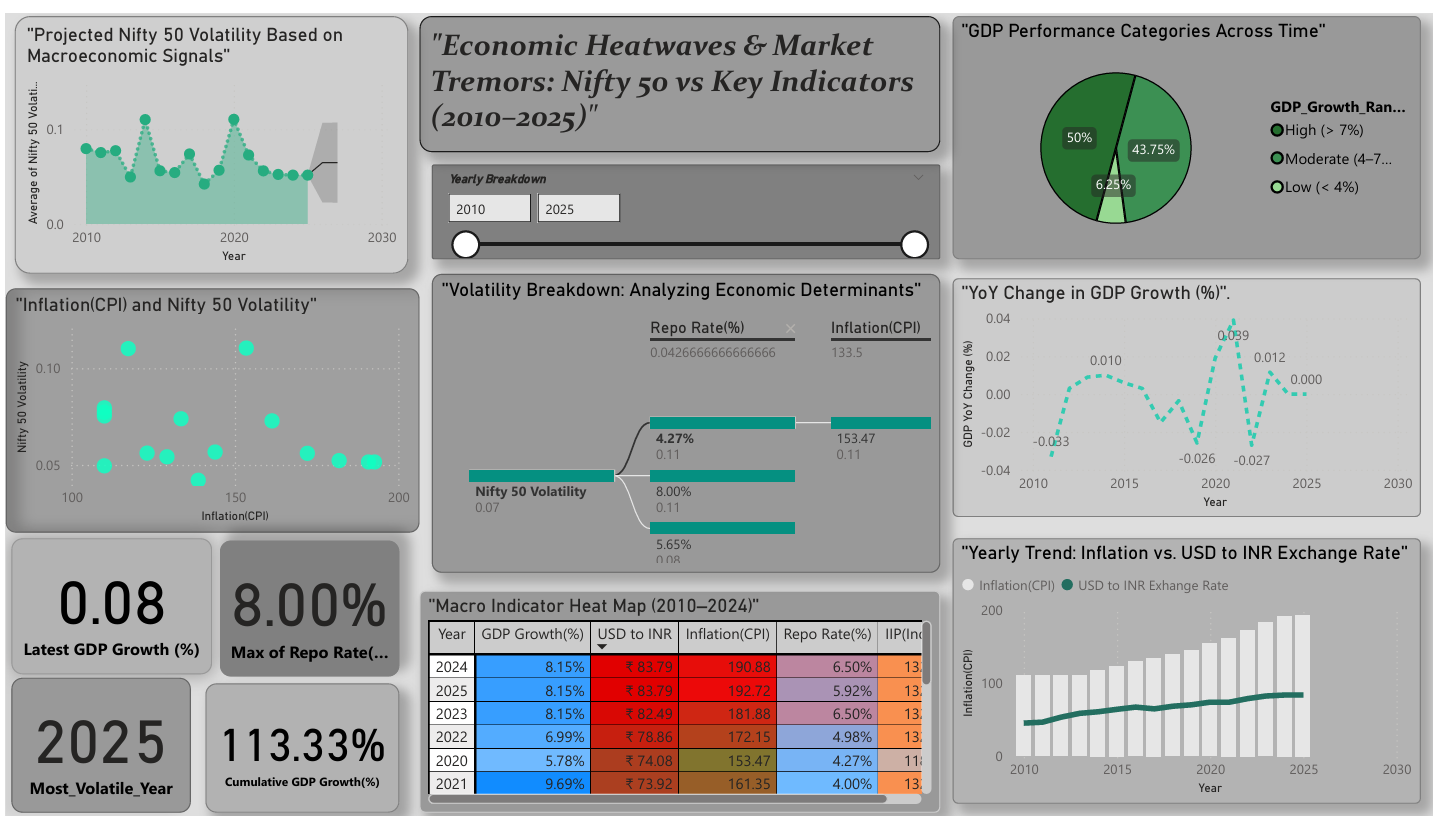

This screenshot's page, from the dashboard's own definition file:
{"tool":"powerbi","page":{"name":"Page 1","canvas":[1280,720],"ordinal":0},"visuals":[{"type":"lineChart","title":"\"Projected Nifty 50 Volatility Based on Macroeconomic Signals\"","fields":{"Category":["nifty_macro_dataset.Year"],"Y":["Avg(nifty_macro_dataset.Nifty 50 Volatility)"]},"box":[8.1,1.6,353,231],"z":0},{"type":"scatterChart","title":"\"Inflation(CPI) and Nifty 50 Volatility\"","fields":{"X":["nifty_macro_dataset.Inflation(CPI)"],"Y":["nifty_macro_dataset.Nifty 50 Volatility"]},"box":[0,245.6,370.9,219.6],"z":1000},{"type":"card","fields":{"Values":["nifty_macro_dataset.Latest GDP Growth (%)"]},"box":[4.9,470.1,180.5,122],"z":2000},{"type":"lineChart","title":"\"YoY Change in GDP Growth (%)\".","fields":{"Category":["nifty_macro_dataset.Year"],"Y":["nifty_macro_dataset.GDP YoY Change (%)"]},"box":[849.1,237.5,419.6,213.1],"z":3000},{"type":"pivotTable","title":"\"Macro Indicator Heat Map (2010–2024)\"","fields":{"Rows":["nifty_macro_dataset.Year"],"Values":["Avg(nifty_macro_dataset.GDP Growth(%))","Avg(nifty_macro_dataset.USD to INR Exhange Rate)","Avg(nifty_macro_dataset.Inflation(CPI))","Avg(nifty_macro_dataset.Repo Rate(%))","Avg(nifty_macro_dataset.IIP(Index))"]},"box":[370.9,517.2,466.8,198.4],"z":4000},{"type":"decompositionTreeVisual","title":"\"Volatility Breakdown: Analyzing Economic Determinants\"","fields":{"Analyze":["Avg(nifty_macro_dataset.Nifty 50 Volatility)"],"ExplainBy":["nifty_macro_dataset.Repo Rate(%)","nifty_macro_dataset.Inflation(CPI)","nifty_macro_dataset.USD to INR Exhange Rate","nifty_macro_dataset.GDP Growth(%)"]},"box":[382.2,232.6,455.4,268.4],"z":5000},{"type":"lineClusteredColumnComboChart","title":"\"Yearly Trend: Inflation vs. USD to INR Exchange Rate\"","fields":{"Category":["nifty_macro_dataset.Year"],"Y":["Avg(nifty_macro_dataset.Inflation(CPI))"],"Y2":["Avg(nifty_macro_dataset.USD to INR Exhange Rate)"]},"box":[849.1,470.1,419.6,237.5],"z":6000},{"type":"card","fields":{"Values":["Max(nifty_macro_dataset.Repo Rate(%))"]},"box":[191.9,471.7,161,122],"z":7000},{"type":"card","fields":{"Values":["nifty_macro_dataset.Most_Volatile_Year"]},"box":[4.9,595.3,161,120.4],"z":8000},{"type":"card","fields":{"Values":["nifty_macro_dataset.Total_GDP_Growth"]},"box":[178.9,600.2,174,115.5],"z":9000},{"type":"slicer","title":"\"Yearly Breakdown\"","fields":{"Values":["nifty_macro_dataset.Year"]},"box":[382.2,135,455.4,84.6],"z":9001},{"type":"pieChart","title":"\"GDP Performance Categories Across Time\"","fields":{"Category":["nifty_macro_dataset.GDP_Growth_Range"],"Y":["CountNonNull(nifty_macro_dataset.Year)"]},"box":[849.1,1.6,419.6,218],"z":9002},{"type":"textbox","box":[370.9,1.6,466.8,122],"z":9003}]}

Visuals, with their boxes in screenshot pixels (x1, y1, x2, y2), scaled from the page's 1280x720 canvas onto the 1433x816 screenshot:
""Projected Nifty 50 Volatility Based on Macroeconomic Signals"" lineChart: BBox(9, 2, 404, 264)
""Inflation(CPI) and Nifty 50 Volatility"" scatterChart: BBox(0, 278, 415, 527)
card - nifty_macro_dataset.Latest GDP Growth (%): BBox(5, 533, 208, 671)
""YoY Change in GDP Growth (%)"." lineChart: BBox(951, 269, 1420, 511)
""Macro Indicator Heat Map (2010–2024)"" pivotTable: BBox(415, 586, 938, 811)
""Volatility Breakdown: Analyzing Economic Determinants"" decompositionTreeVisual: BBox(428, 264, 938, 568)
""Yearly Trend: Inflation vs. USD to INR Exchange Rate"" lineClusteredColumnComboChart: BBox(951, 533, 1420, 802)
card - Max(nifty_macro_dataset.Repo Rate(%)): BBox(215, 535, 395, 673)
card - nifty_macro_dataset.Most_Volatile_Year: BBox(5, 675, 186, 811)
card - nifty_macro_dataset.Total_GDP_Growth: BBox(200, 680, 395, 811)
""Yearly Breakdown"" slicer: BBox(428, 153, 938, 249)
""GDP Performance Categories Across Time"" pieChart: BBox(951, 2, 1420, 249)
textbox: BBox(415, 2, 938, 140)
